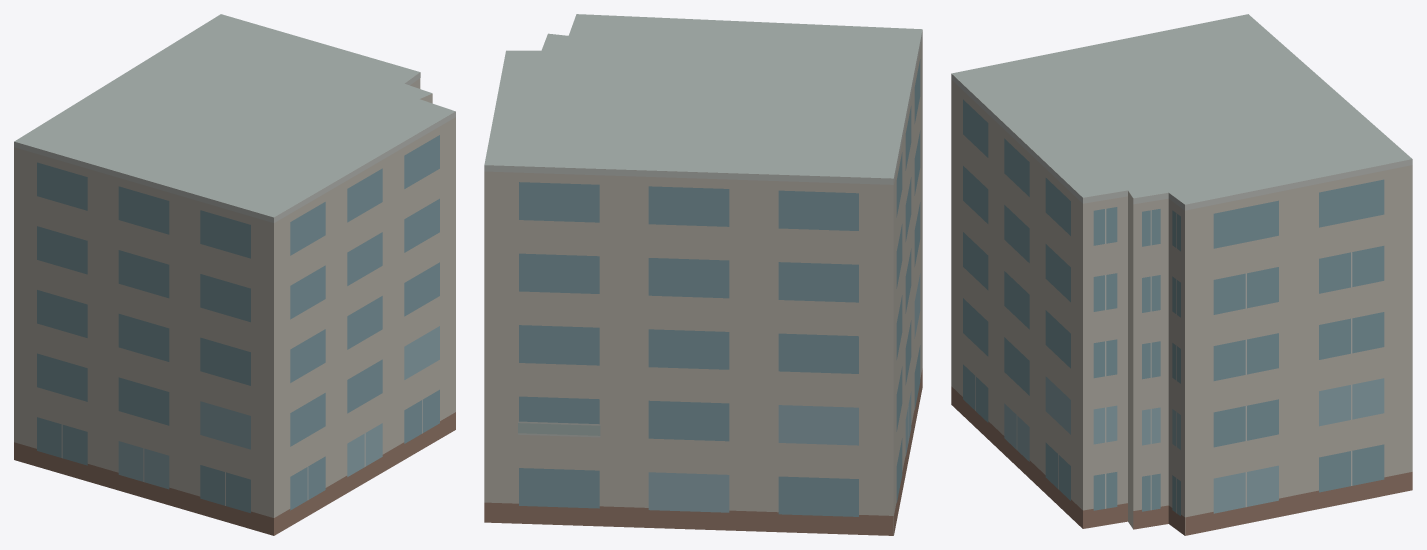
The model's file is survey-upis-32880637.glb.
3 renders of one model, left to right at view 1: azimuth 30°, elevation 25°; view 2: azimuth 150°, elevation 25°; view 3: azimuth 270°, elevation 25°, orthographic. The views are drawn at different scales.
Parts seen in each view (by area): view 1: survey-upis-32880637.tmp; view 2: survey-upis-32880637.tmp; view 3: survey-upis-32880637.tmp.
Boxes of the visible parts, x1,y1,x2,y2 form: survey-upis-32880637.tmp: (14, 14, 455, 535); survey-upis-32880637.tmp: (484, 14, 922, 535); survey-upis-32880637.tmp: (951, 14, 1412, 535).
Size of the model in its own units: 16.87 by 13.65 by 17.24.
